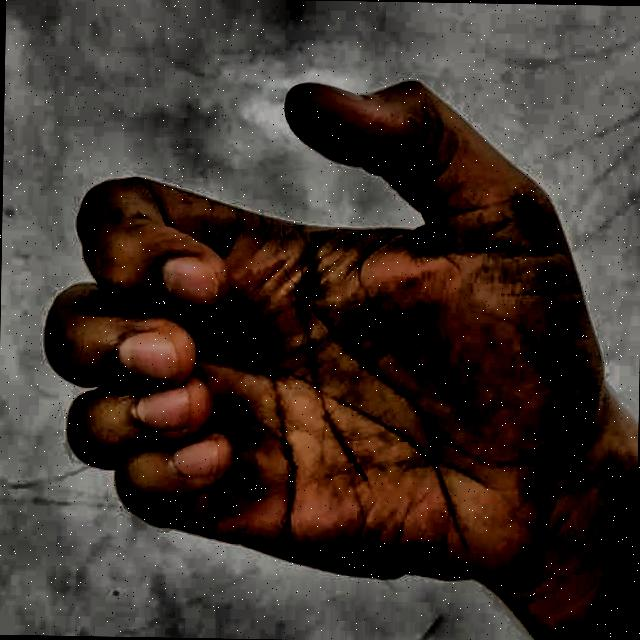Dho: (31, 52, 617, 630)
